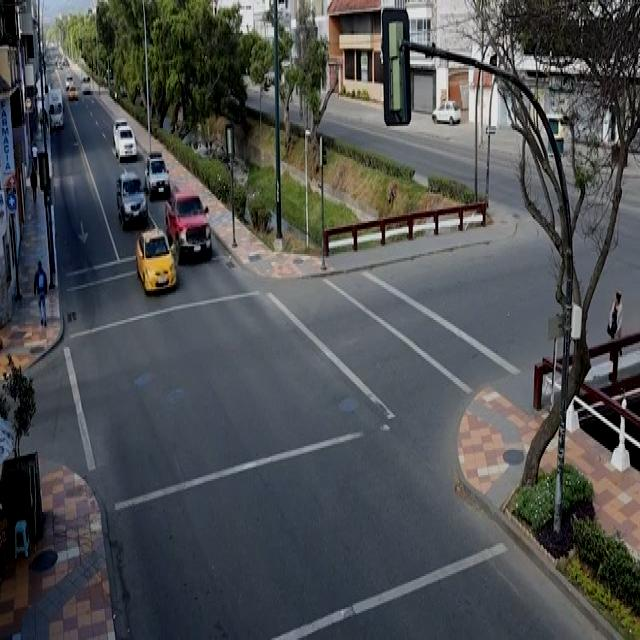CMT: (168, 191, 213, 259)
